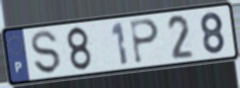1: (111, 21, 131, 66)
2: (166, 14, 195, 61)
8: (66, 24, 95, 74), (200, 10, 228, 56)
P: (129, 18, 161, 66)
S: (30, 30, 63, 76)
